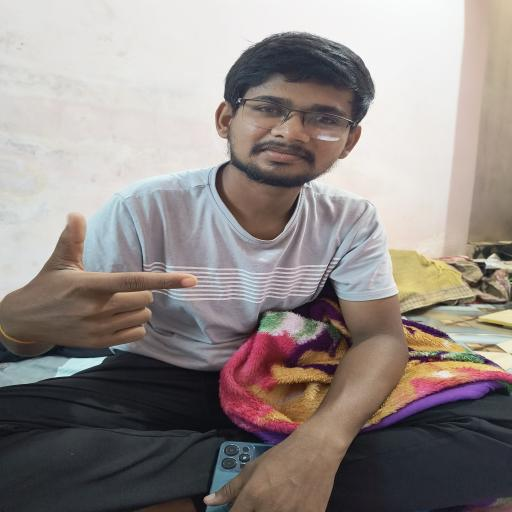OK: (0, 207, 206, 377)
